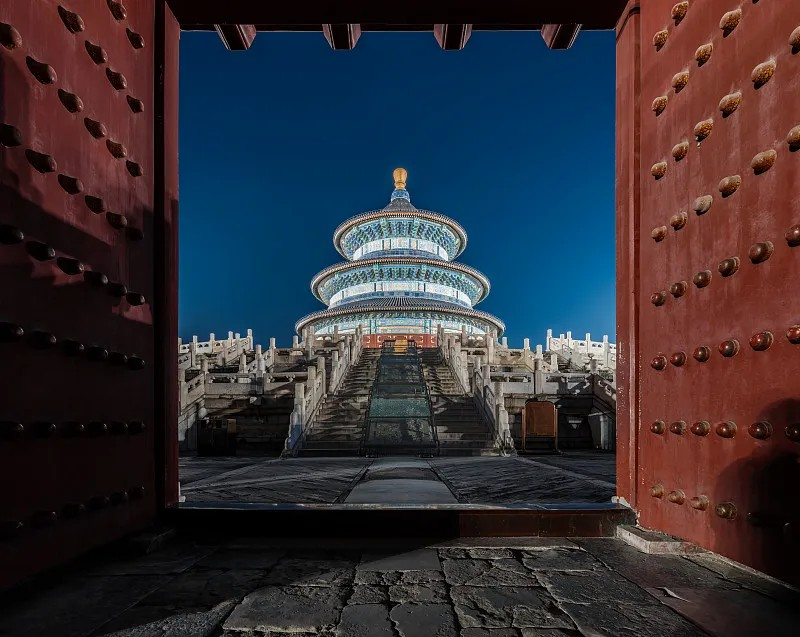Heaven: (295, 167, 505, 353)
